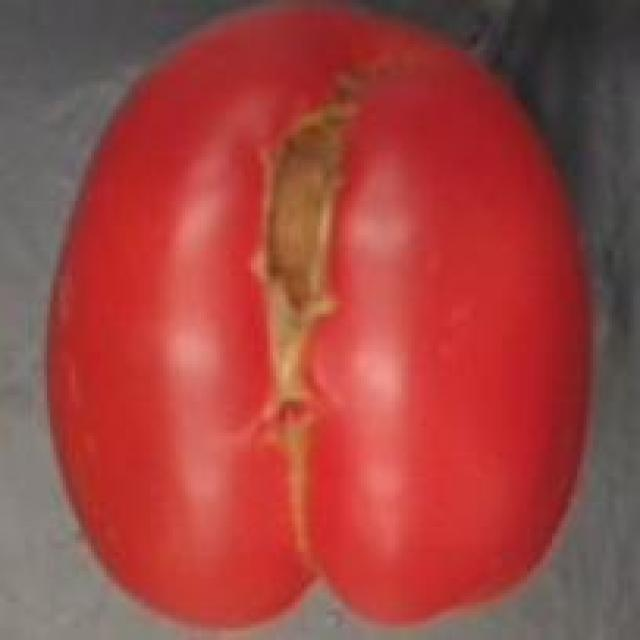overripe tomato: (34, 3, 608, 637)
